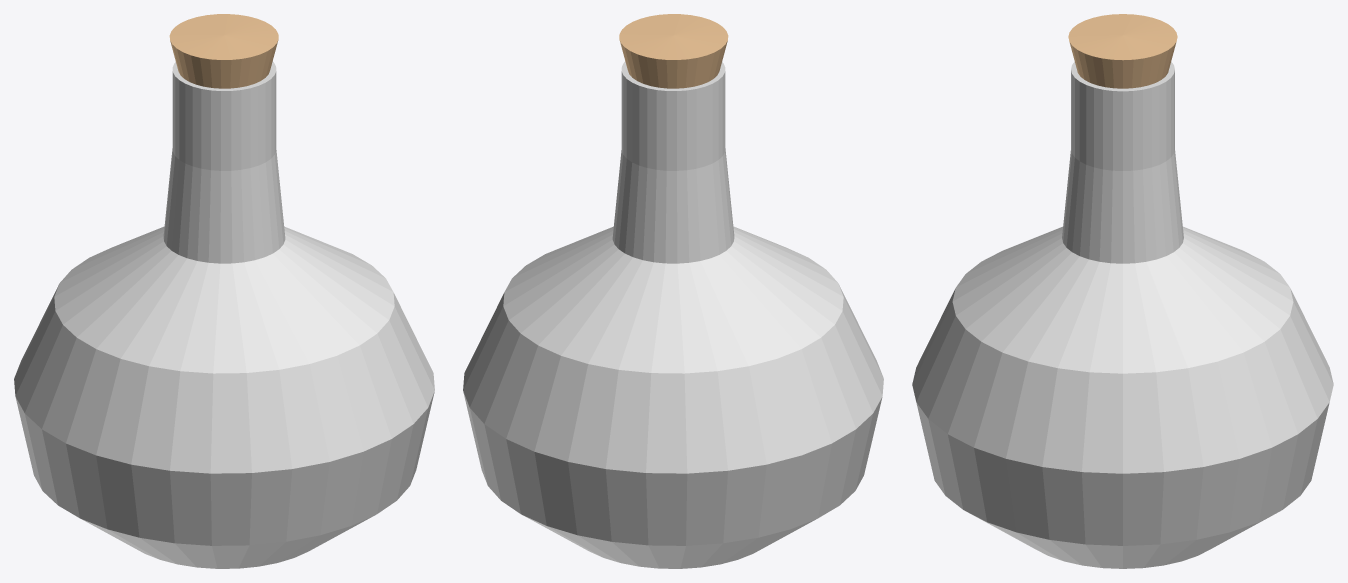
The model's file is health_potion.fbx.
3 renders of one model, left to right at view 1: azimuth 30°, elevation 25°; view 2: azimuth 150°, elevation 25°; view 3: azimuth 270°, elevation 25°, orthographic.
Visible parts, largest first — view 1: Cylinder; view 2: Cylinder; view 3: Cylinder.
Part boxes in pixels (x1,y1,x2,y2): Cylinder: (14, 14, 434, 568); Cylinder: (463, 14, 883, 568); Cylinder: (912, 14, 1333, 568).
Size of the model in its own units: 174 by 222 by 174.
